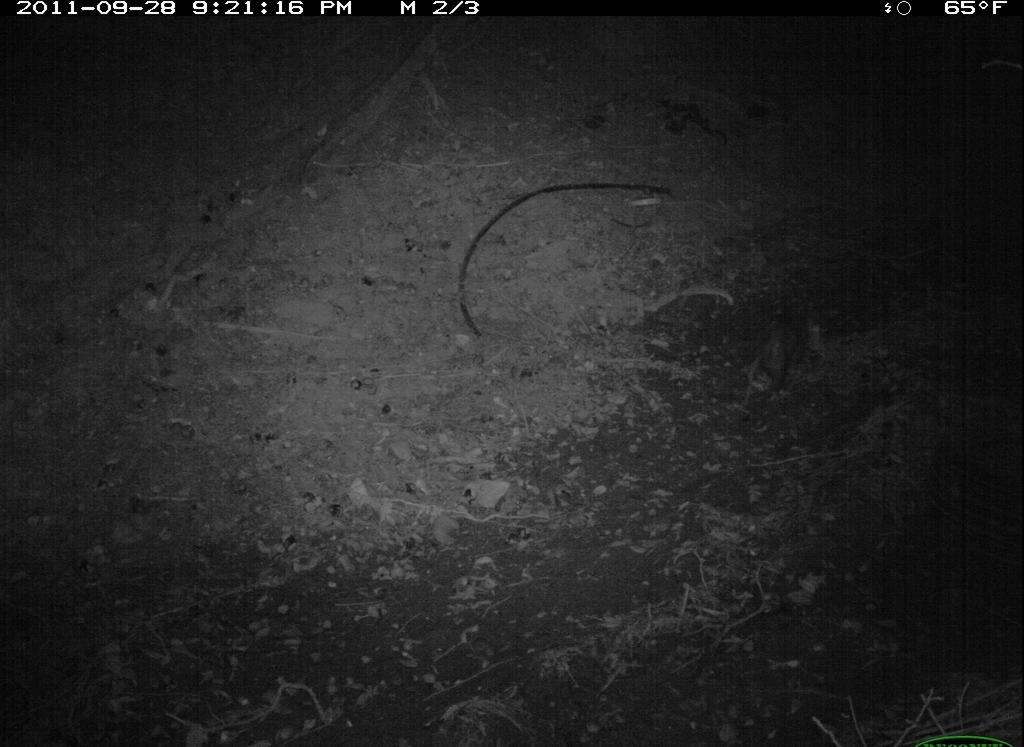opossum: (738, 299, 836, 404)
